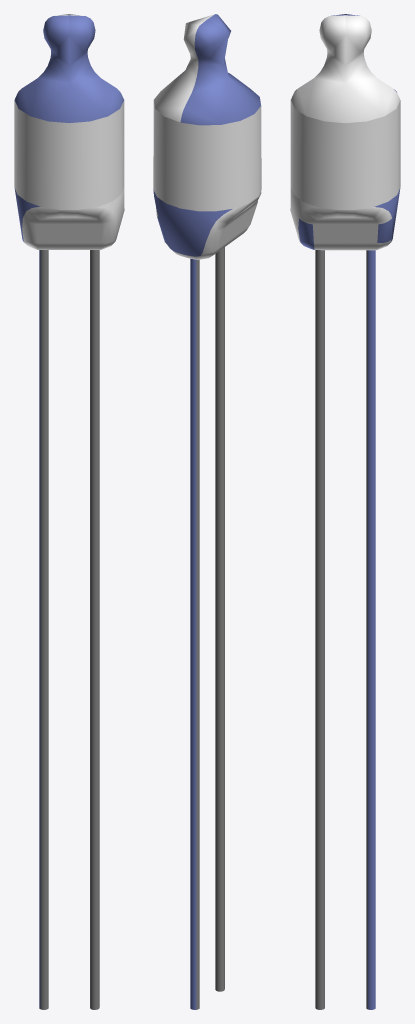
The model's file is LightBulbFactory.fbx.
3 views of the same model, side by side, from view 1: azimuth 90°, elevation 25°; view 2: azimuth 150°, elevation 25°; view 3: azimuth 270°, elevation 25° (orthographic).
Parts seen in each view (by area): view 1: NeonBulbClear4x10; view 2: NeonBulbClear4x10; view 3: NeonBulbClear4x10.
Boxes of the visible parts, <box> form: NeonBulbClear4x10: <box>14,14,124,1009</box>; NeonBulbClear4x10: <box>153,14,261,1009</box>; NeonBulbClear4x10: <box>290,14,400,1009</box>.
Size of the model in its own units: 0.4 by 3.99 by 0.4009.
